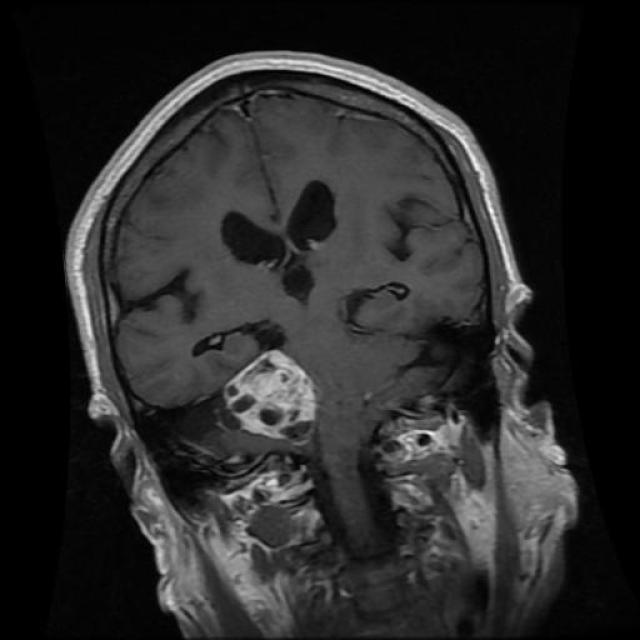meningioma: (224, 350, 316, 439)
